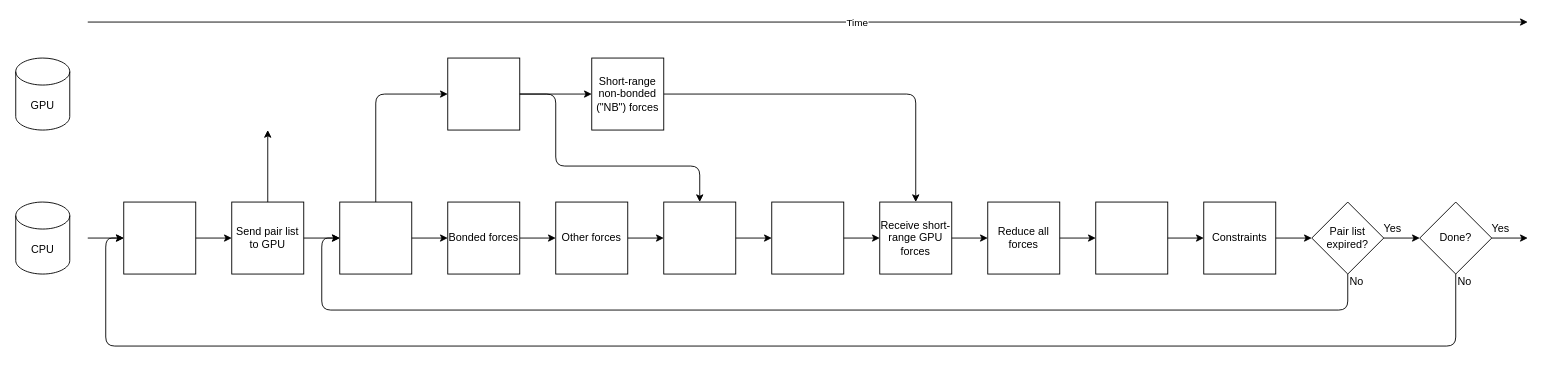
This 1551x369 diagram has some shape labels left out. The shapes that lost their labels are listed below. From the top down, each one's box as (x1, y1, x2, y2) in pixels, then its label:
(447, 57, 520, 130): PME charge spreading
(123, 201, 196, 274): Pair search
(339, 201, 412, 274): Send position coordinates to GPU
(663, 201, 736, 274): Receive spread charges
(771, 201, 844, 274): PME 3D-FFT, solve and gather forces
(1095, 201, 1168, 274): Update
